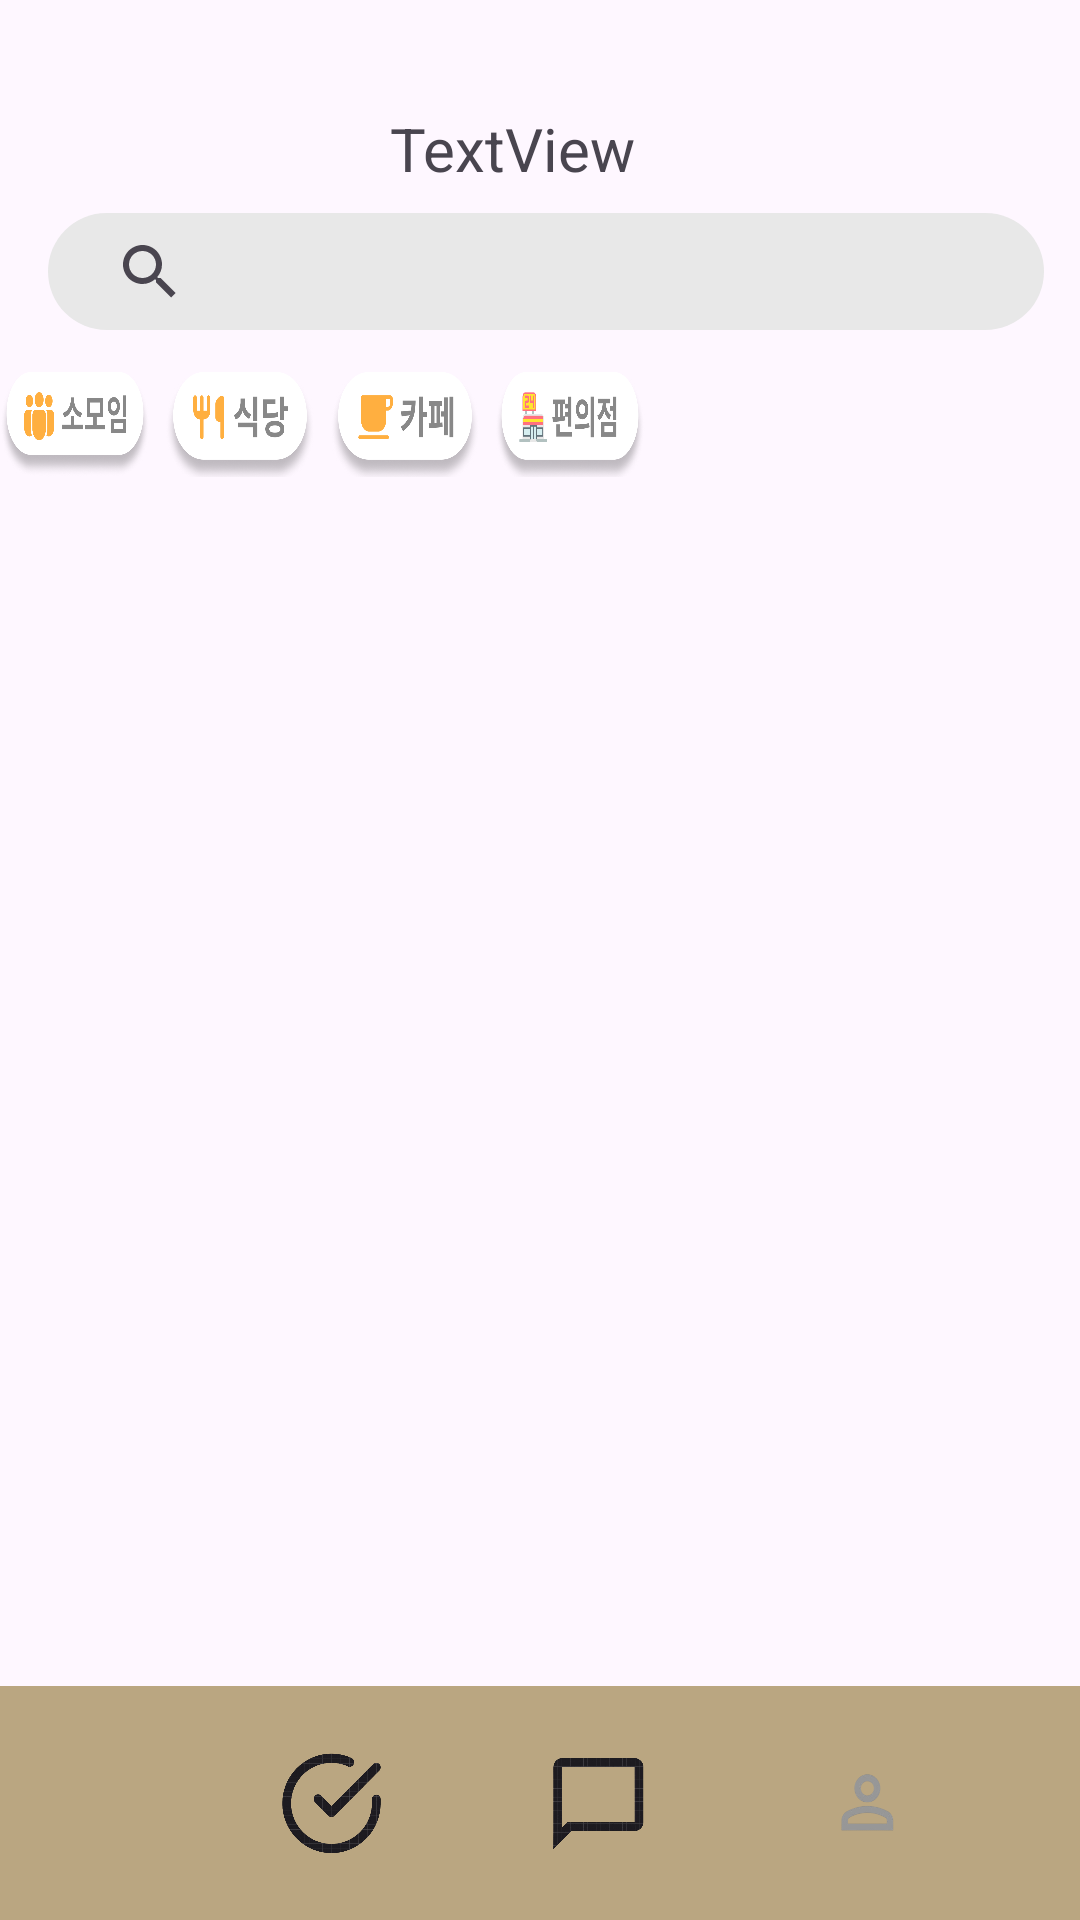

Named icons in this screenshot (1080w x 1920h) and their bounding boxes, Rect(x1, y1, x2, y2):
chat: Rect(553, 1758, 644, 1849)
check: Rect(282, 1754, 381, 1853)
mypage: Rect(842, 1774, 893, 1830)
